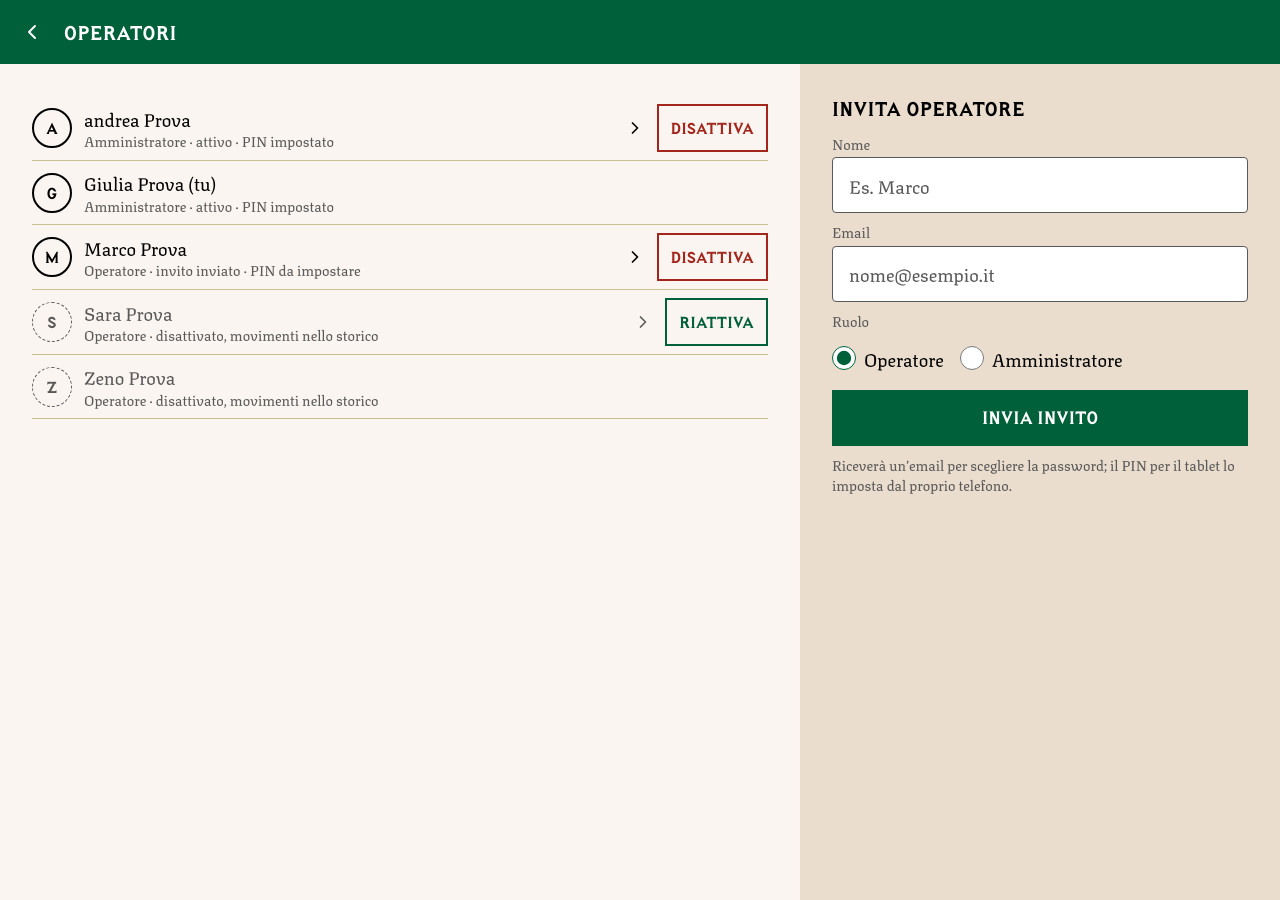
Test: OperatorsPage: Disattiva e Riattiva › "Lascia com’è" closes the dialog without asking anything
The image size is (1280, 900).
What coordinates should you click on to do the following:
click the 1st button "Disattiva"
I would click on:
 (712, 128)
Its box is left=656, top=104, right=768, bottom=152.
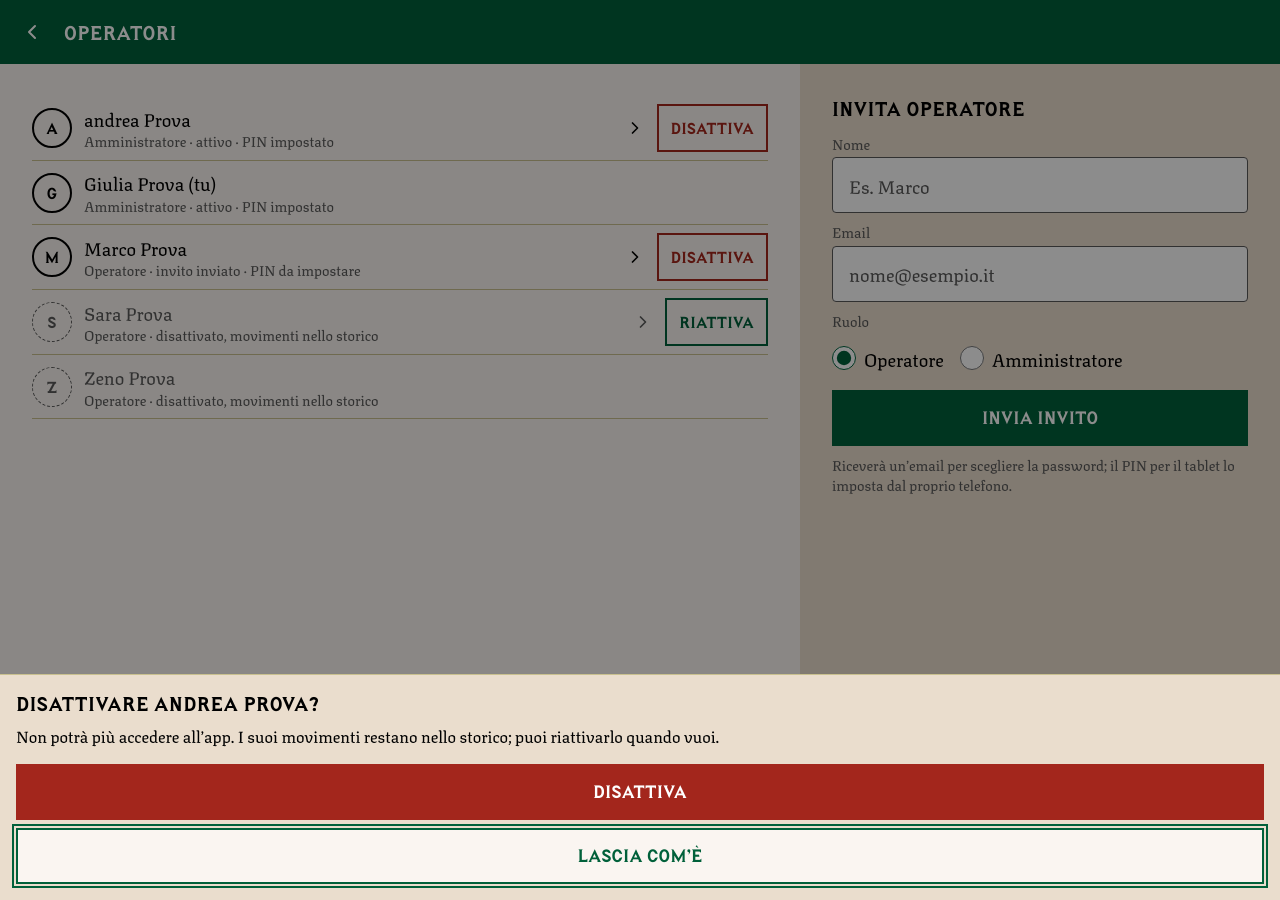
What coordinates should you click on to do the following:
click the button "Lascia com’è"
I would click on:
 (640, 856)
Its box is left=16, top=828, right=1264, bottom=884.
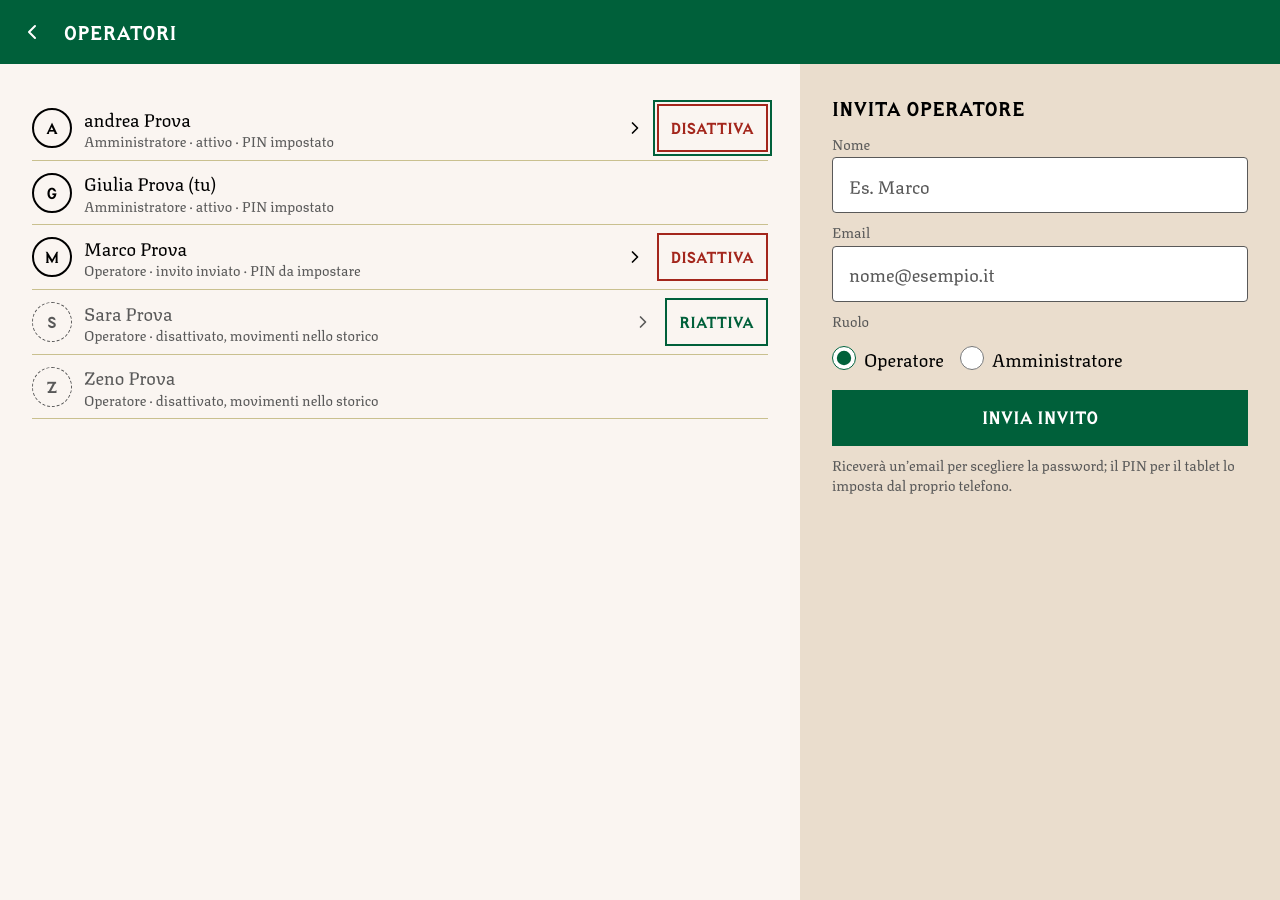
Expected: the dialog is gone
